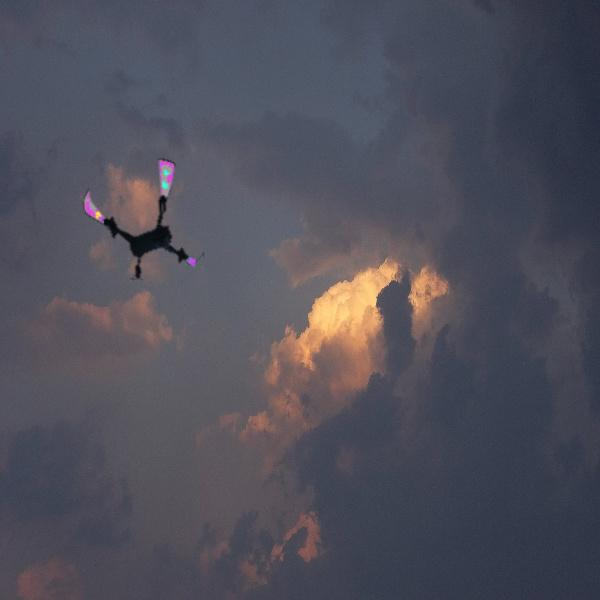drone: (76, 157, 209, 290)
